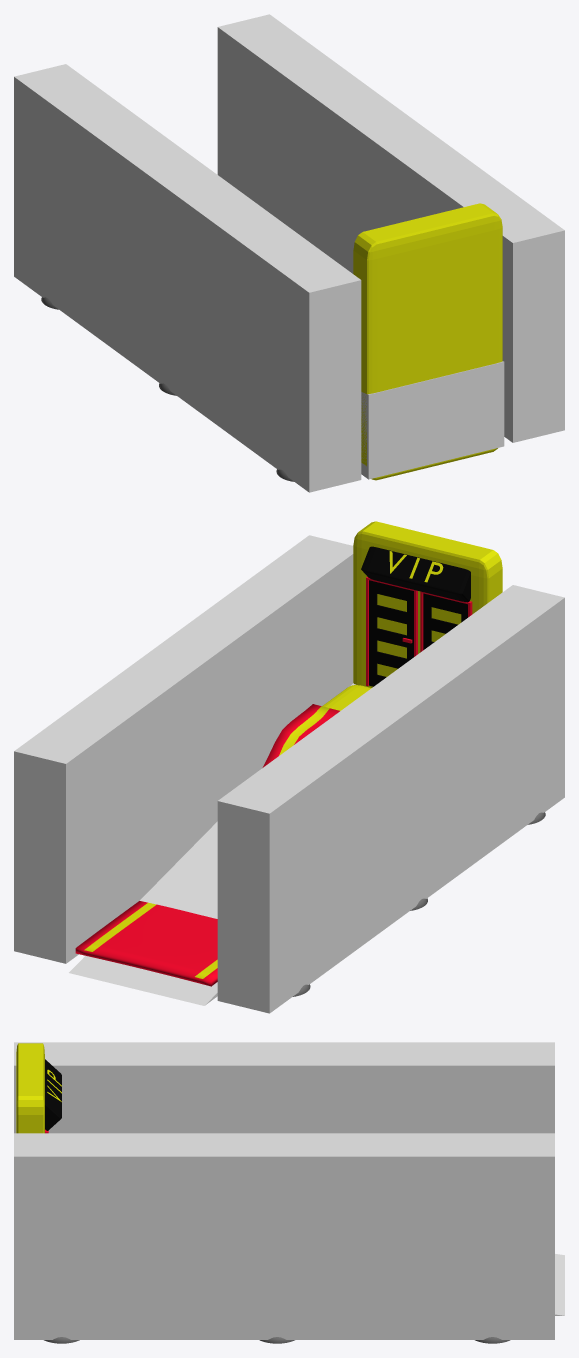
The model's file is VipArea2.fbx.
The picture shows the model from 3 angles, top to bottom: view 1: azimuth 30°, elevation 25°; view 2: azimuth 150°, elevation 25°; view 3: azimuth 270°, elevation 25°; orthographic projection. The views are drawn at different scales.
Visible parts, largest first — view 1: Wall2, Wall1, DoorHolder, Ramp; view 2: Wall2, Wall1, Carpet, Ramp, DoorHolder, Door1, VipHolder, Door2; view 3: Wall1, Wall2, DoorHolder, VipHolder, Ramp.
Boxes of the visible parts, left/top/right/bottom form: Wall2: left=14, top=64, right=361, bottom=492; Wall1: left=217, top=14, right=564, bottom=442; DoorHolder: left=353, top=203, right=502, bottom=480; Ramp: left=361, top=361, right=504, bottom=479; Wall2: left=217, top=585, right=564, bottom=1013; Wall1: left=14, top=535, right=353, bottom=963; Carpet: left=75, top=704, right=339, bottom=986; Ramp: left=69, top=683, right=355, bottom=1005; DoorHolder: left=353, top=521, right=502, bottom=687; Door1: left=366, top=577, right=417, bottom=686; VipHolder: left=361, top=546, right=470, bottom=602; Door2: left=420, top=591, right=472, bottom=652; Wall1: left=14, top=1133, right=554, bottom=1339; Wall2: left=14, top=1042, right=554, bottom=1133; DoorHolder: left=16, top=1043, right=44, bottom=1133; VipHolder: left=45, top=1059, right=61, bottom=1130; Ramp: left=555, top=1254, right=564, bottom=1315.
Bounding box in the file's own units: 387 × 336 × 767.
